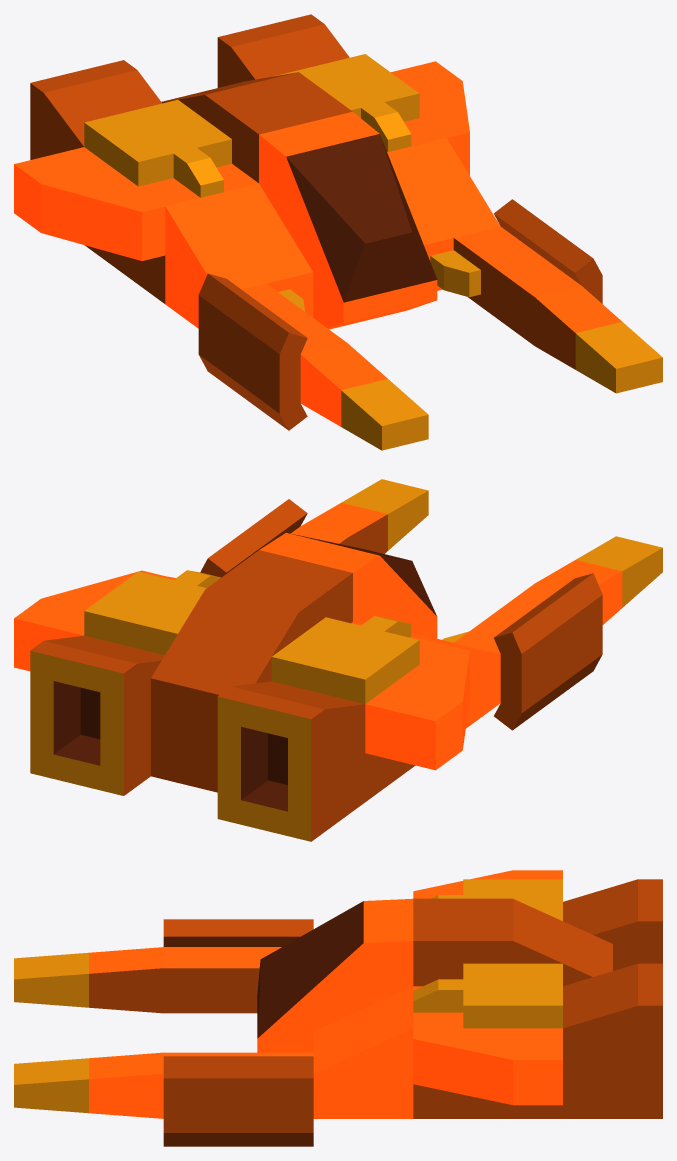
Rendered from fire.dae.
3 views of the same model, one above another, from view 1: azimuth 30°, elevation 25°; view 2: azimuth 150°, elevation 25°; view 3: azimuth 270°, elevation 25° (orthographic). The views are drawn at different scales.
Parts seen in each view (by area): view 1: craft_miner; view 2: craft_miner; view 3: craft_miner.
Part boxes in pixels (x1,y1,x2,y2): craft_miner: (14,14,662,450); craft_miner: (14,479,662,841); craft_miner: (14,870,662,1146).
Bounding box in the file's own units: 1.8 × 0.7 × 2.6.
